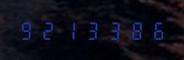eight: (122, 20, 142, 40)
nine: (17, 20, 37, 40)
one: (59, 20, 79, 40)
six: (143, 20, 163, 40)
three: (80, 20, 100, 40), (101, 20, 121, 40)
two: (38, 20, 58, 40)
